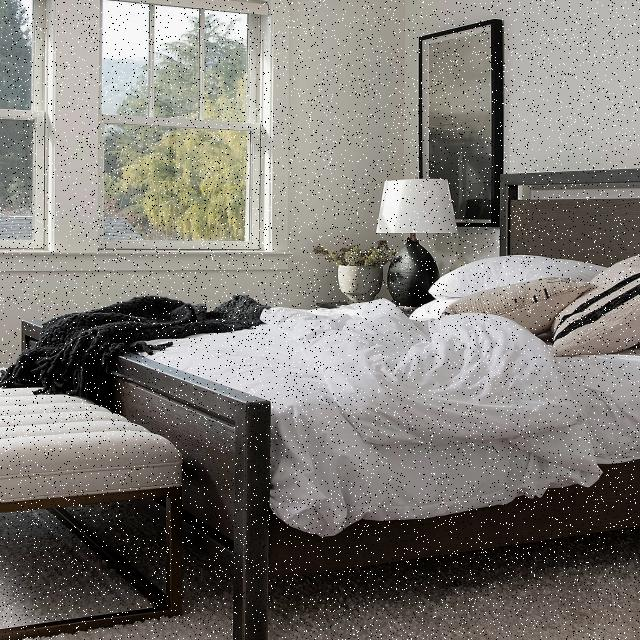bed: (21, 252, 640, 540)
